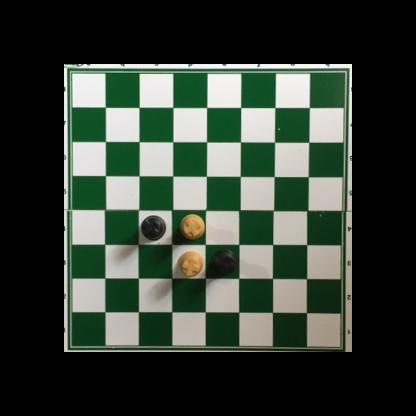black-rook: (210, 248, 240, 276), (141, 215, 166, 240)
white-rook: (179, 213, 205, 242), (177, 250, 202, 277)
